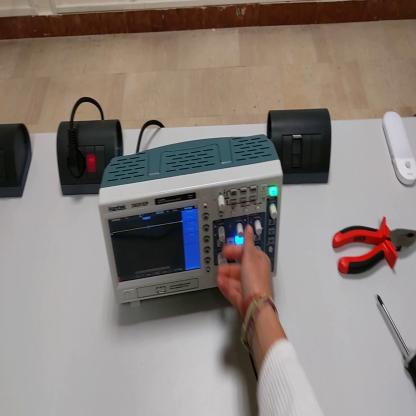hand: (217, 223, 273, 311)
oscilloscope: (97, 134, 282, 309)
pliers: (332, 216, 416, 285)
screwdriver-: (377, 291, 416, 387)
socket: (56, 118, 125, 196), (2, 119, 32, 200)
